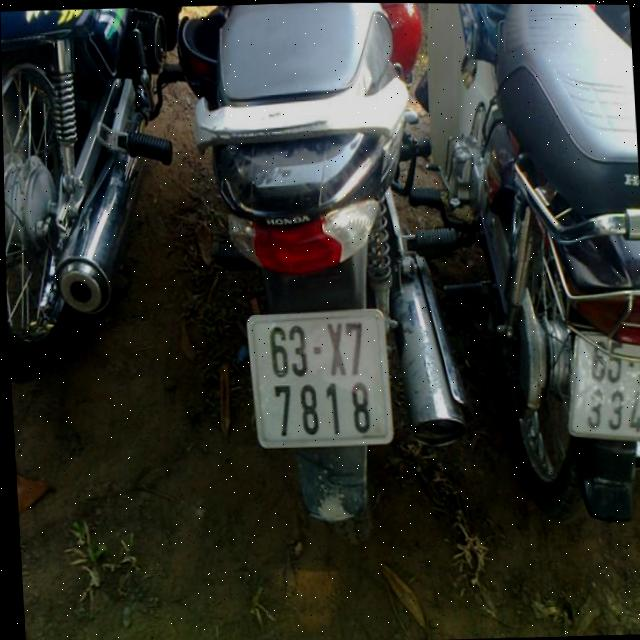motorcycle: (190, 1, 479, 530), (420, 3, 640, 542), (0, 4, 218, 398)
plate: (243, 306, 400, 454), (566, 324, 640, 443)
